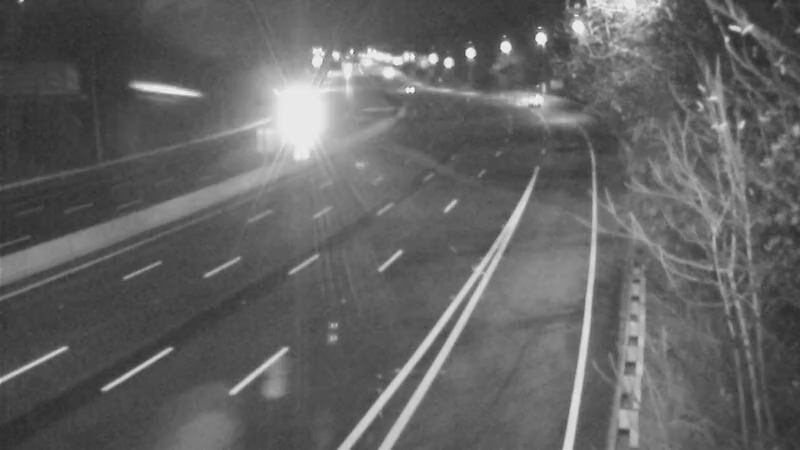vehicle: (379, 65, 429, 115), (501, 75, 551, 125), (273, 90, 323, 140)
